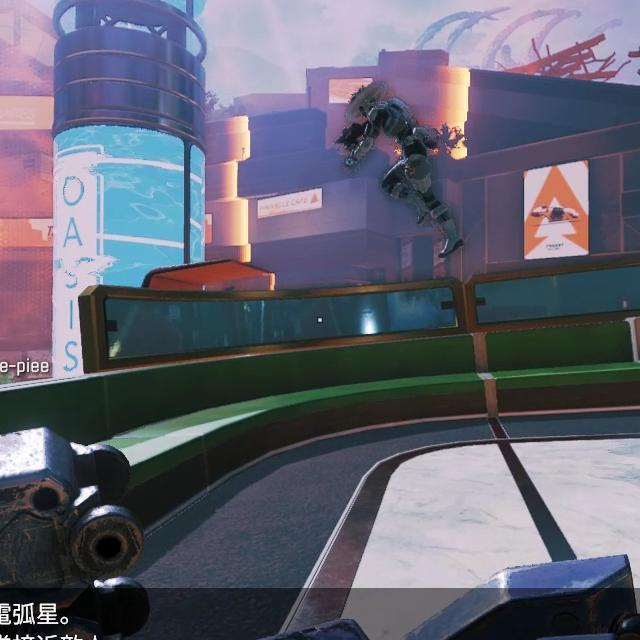avatar: (343, 86, 464, 257)
